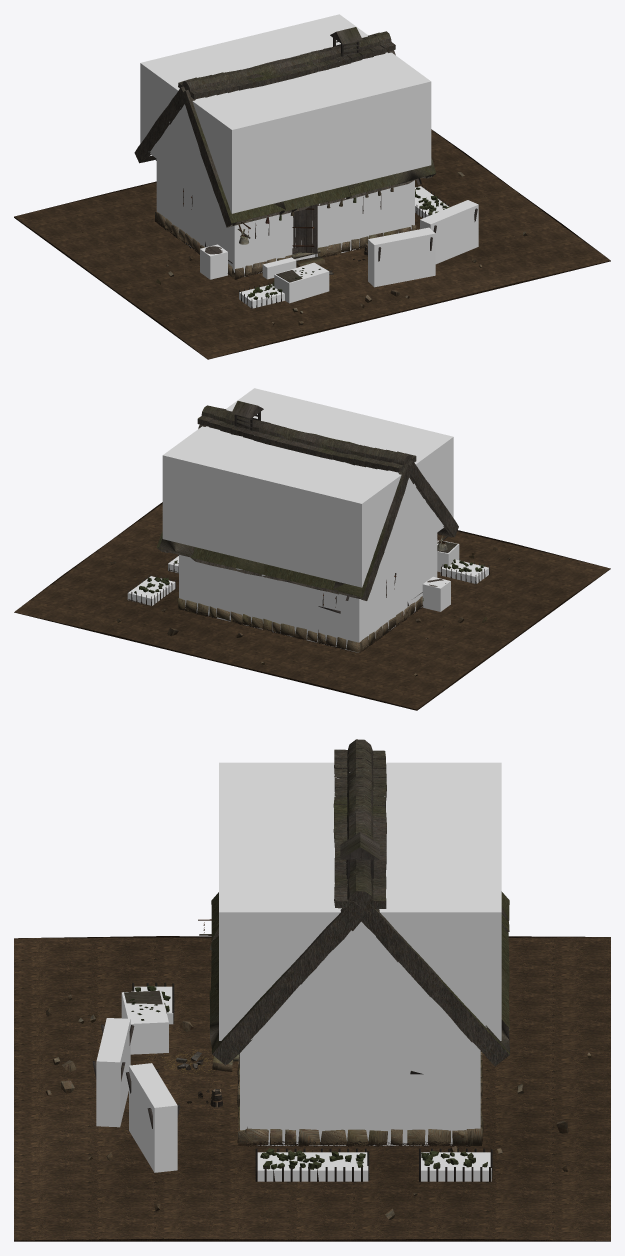
The model's file is bld_herbs_ysara_shared_tex.glb.
The picture shows the model from 3 angles, top to bottom: view 1: azimuth 30°, elevation 25°; view 2: azimuth 150°, elevation 25°; view 3: azimuth 270°, elevation 25°; orthographic projection. The views are drawn at different scales.
Parts seen in each view (by area): view 1: ground_mud, col_roof, lite_merge_09, col_wall_W, col_wall_S_b, col_rack_2, col_rack_4, lite_merge_08, col_wall_S_a, col_screen, door_main_leaf, col_butt (+3 smaller); view 2: ground_mud, col_roof, lite_merge_09, col_wall_N, col_wall_W, lite_merge_08, col_butt, col_bed_6_2, col_bed_-4_-5, garden_beds, roof_louvre, decals_herbs; view 3: ground_mud, col_roof, col_wall_E, lite_merge_09, lite_merge_08, col_rack_4, col_rack_2, col_bed_6_-1, col_screen, garden_beds, col_bed_6_2, col_wall_N (+2 smaller).
Boxes of the visible parts, x1,y1,x2,y2 form: ground_mud: (14, 129, 610, 359); col_roof: (140, 14, 431, 213); lite_merge_09: (134, 31, 449, 299); col_wall_W: (156, 159, 241, 272); col_wall_S_b: (315, 184, 408, 256); col_rack_2: (368, 227, 435, 287); col_rack_4: (420, 200, 478, 264); lite_merge_08: (81, 172, 527, 325); col_wall_S_a: (238, 212, 292, 276); col_screen: (274, 262, 329, 303); door_main_leaf: (292, 204, 317, 252); col_butt: (200, 244, 227, 279); ground_mud: (14, 502, 610, 710); col_roof: (162, 388, 453, 587); lite_merge_09: (134, 405, 483, 600); col_wall_N: (179, 555, 360, 652); col_wall_W: (352, 533, 437, 652); lite_merge_08: (110, 546, 510, 676); col_butt: (422, 576, 450, 611); col_bed_6_2: (127, 576, 175, 605); col_bed_-4_-5: (440, 559, 488, 583); garden_beds: (128, 554, 489, 605); roof_louvre: (231, 401, 263, 429); decals_herbs: (180, 598, 423, 651); ground_mud: (14, 936, 610, 1241); col_roof: (219, 762, 501, 1040); col_wall_E: (240, 1041, 480, 1145); lite_merge_09: (129, 739, 509, 1169); lite_merge_08: (46, 959, 591, 1219); col_rack_4: (129, 1063, 177, 1172); col_rack_2: (96, 1018, 130, 1127); col_bed_6_-1: (257, 1152, 368, 1181); col_screen: (121, 990, 168, 1054); garden_beds: (132, 983, 492, 1181); col_bed_6_2: (421, 1152, 491, 1181); col_wall_N: (468, 1041, 480, 1128).
Bounding box in the file's own units: 18 × 8.03 × 15.
Materials: 17 (13 with a texture image).
